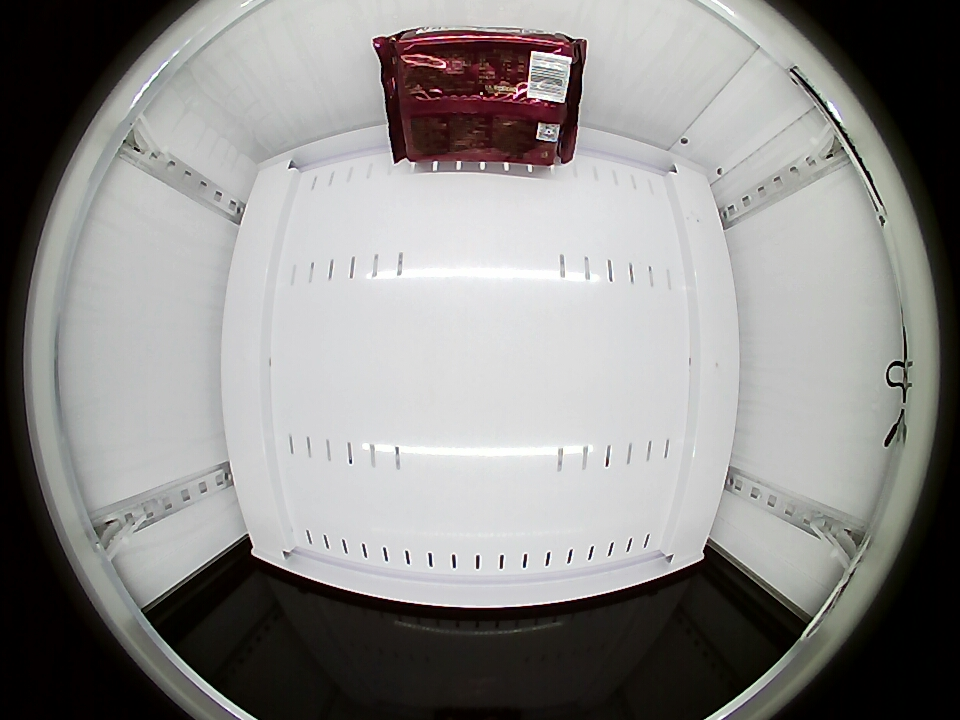haochidian: (379, 27, 585, 159)
